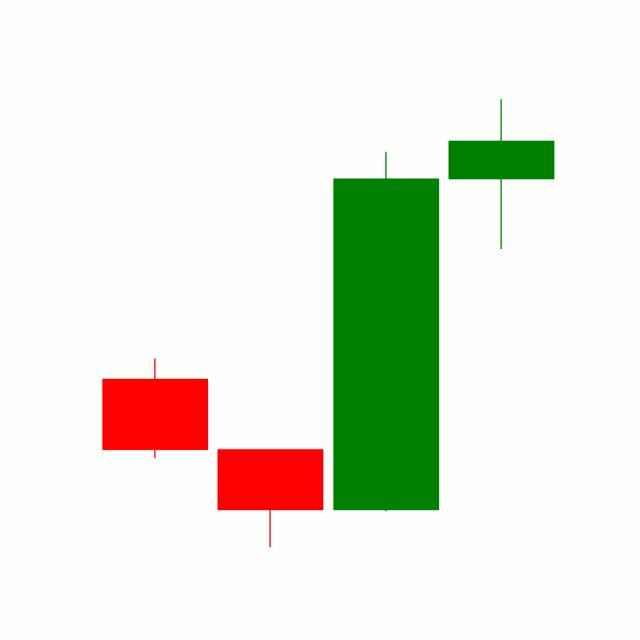Spinning Top: (444, 98, 560, 252)
